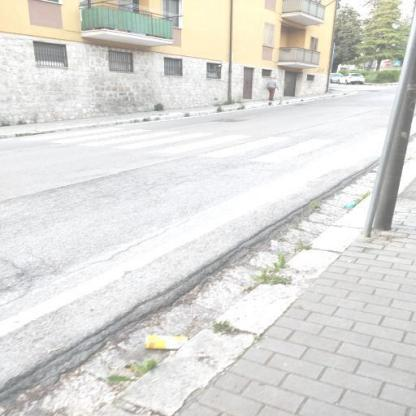crosswalk: (192, 132, 338, 164)
